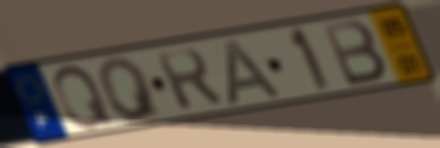1: (286, 25, 335, 95)
A: (222, 37, 287, 108)
B: (318, 17, 390, 89)
Q: (95, 55, 167, 123), (51, 62, 116, 131)
R: (152, 46, 228, 113)
